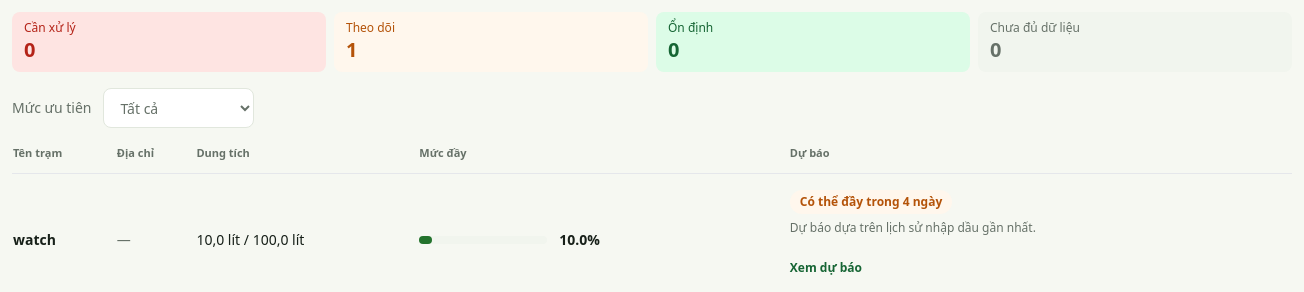
Test: hiển thị empty state khi không có trạm phù hợp với bộ lọc
Select "Ổn định" in the dropdown named "Lọc mức độ ưu tiên" at (179, 108), box [103, 88, 254, 128]
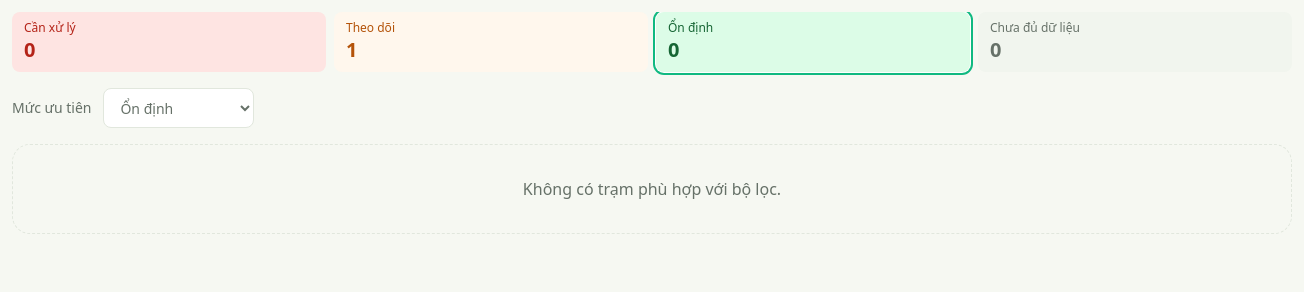
Expected: the text "Không có trạm phù hợp với bộ lọc." is shown, [12, 144, 1292, 234]
